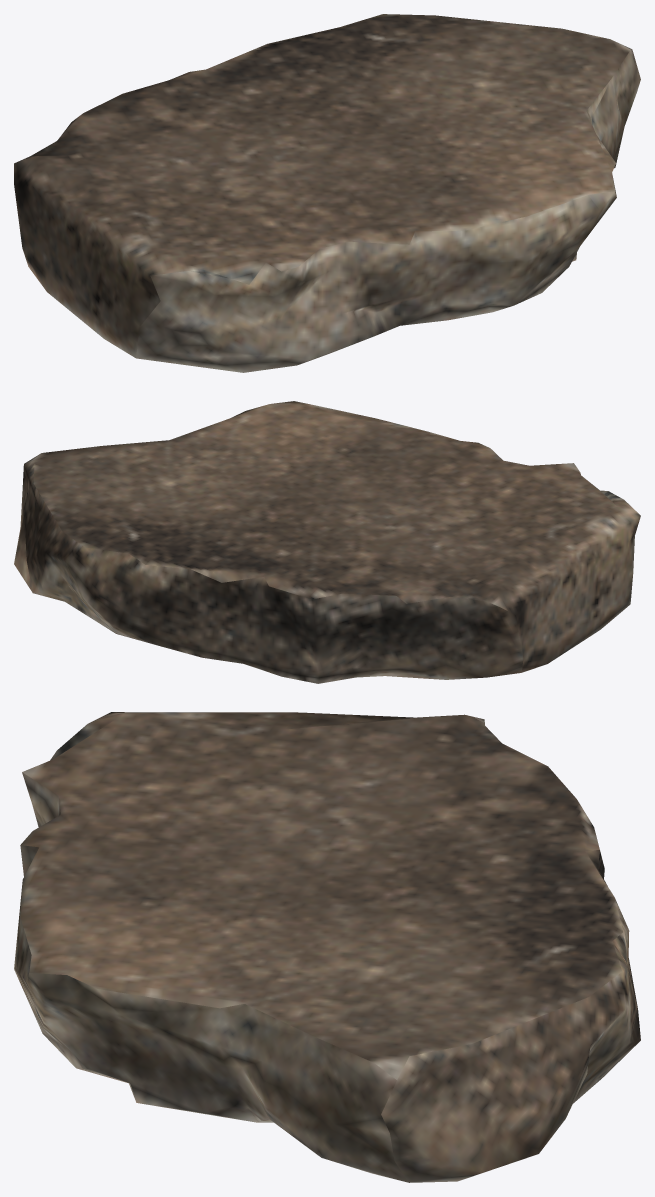
Rendered from Concrete_Rubble0.fbx.
3 views of the same model, one above another, from view 1: azimuth 30°, elevation 25°; view 2: azimuth 150°, elevation 25°; view 3: azimuth 270°, elevation 25° (orthographic). The views are drawn at different scales.
Visible parts, largest first — view 1: Concrete_Rubble0; view 2: Concrete_Rubble0; view 3: Concrete_Rubble0.
Part boxes in pixels (bbox=[...]): Concrete_Rubble0: bbox=[14, 14, 640, 372]; Concrete_Rubble0: bbox=[14, 401, 640, 683]; Concrete_Rubble0: bbox=[14, 712, 640, 1182].
Bounding box in the file's own units: 13.89 × 2.46 × 9.99.
